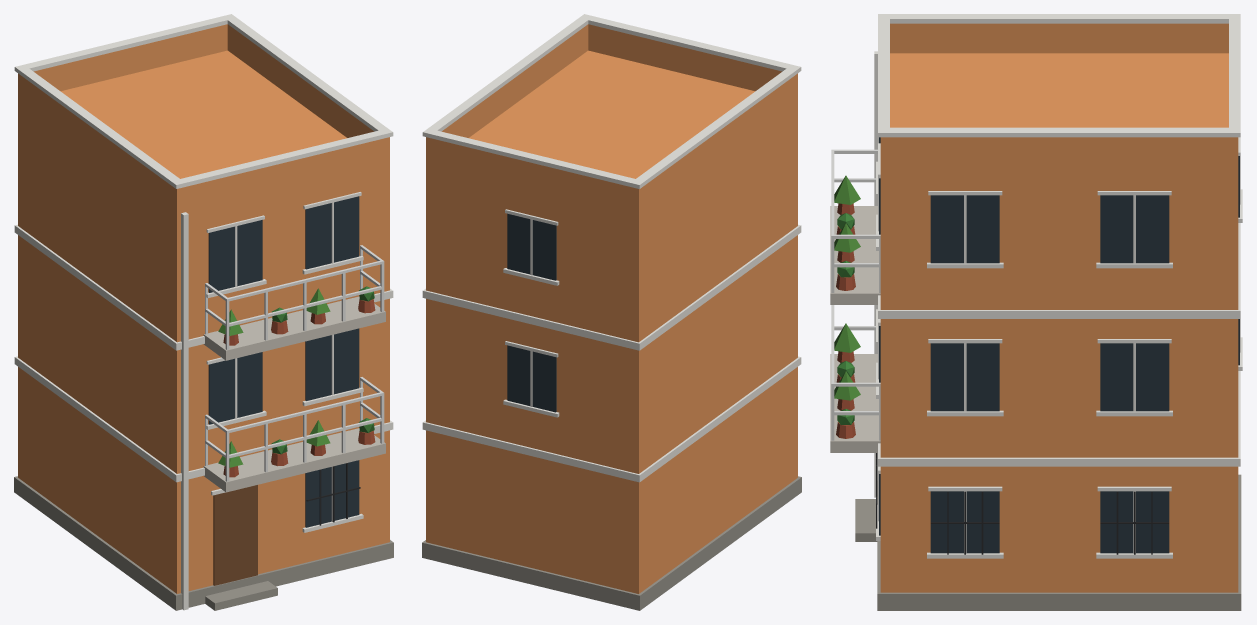
File: BAY_F_Corner_S.glb
The picture shows the model from 3 angles, left to right: view 1: azimuth 30°, elevation 25°; view 2: azimuth 150°, elevation 25°; view 3: azimuth 270°, elevation 25°; orthographic projection. The views are drawn at different scales.
Parts seen in each view (by area): view 1: BAY_F_Corner_S; view 2: BAY_F_Corner_S; view 3: BAY_F_Corner_S.
Part boxes in pixels (<box>): BAY_F_Corner_S: <box>14,14,393,610</box>; BAY_F_Corner_S: <box>422,14,801,610</box>; BAY_F_Corner_S: <box>830,14,1242,610</box>.
Size of the model in its own units: 4.52 by 8.4 by 6.57.
1 material, 1 textured.
